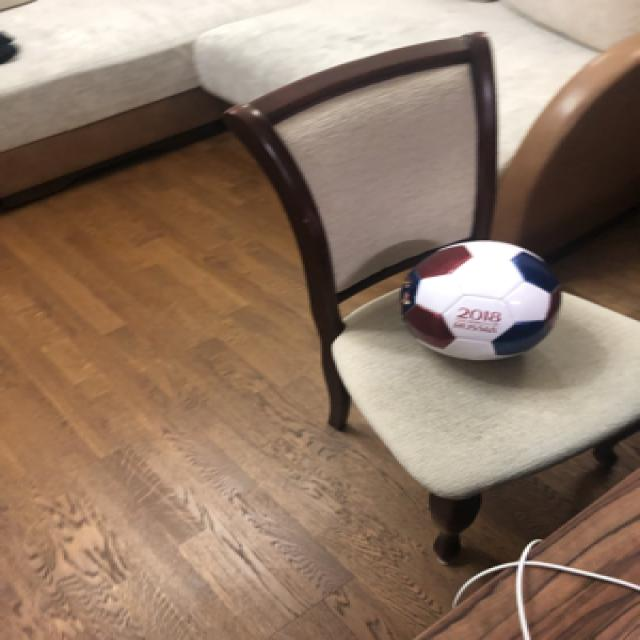soccer_ball: (395, 237, 563, 360)
